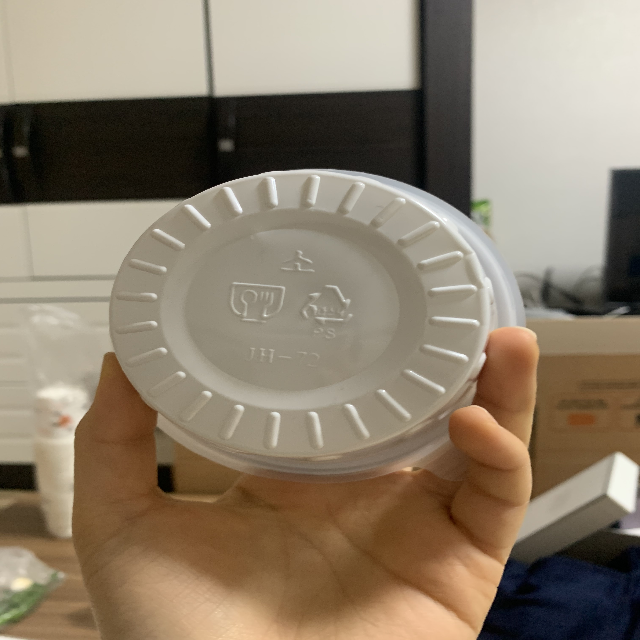ps: (300, 283, 355, 341)
